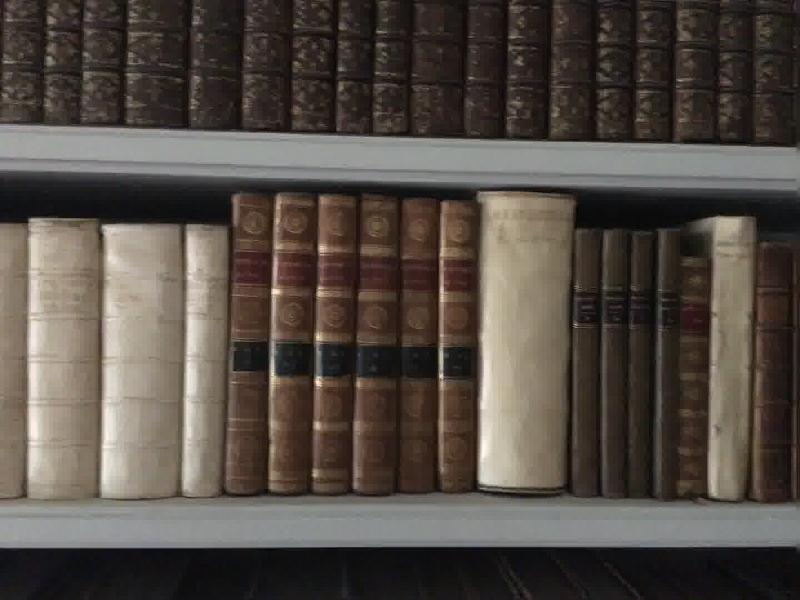Kk4-14: (482, 188, 573, 497)
Kk4-15_16: (575, 223, 631, 499)
Kk4-17_18: (632, 229, 678, 501)
Kk4-19: (679, 254, 705, 504)
Kk4-20: (708, 214, 751, 500)
Kk4-3_7: (2, 210, 226, 504)
Kk4-8_13: (228, 193, 479, 494)
